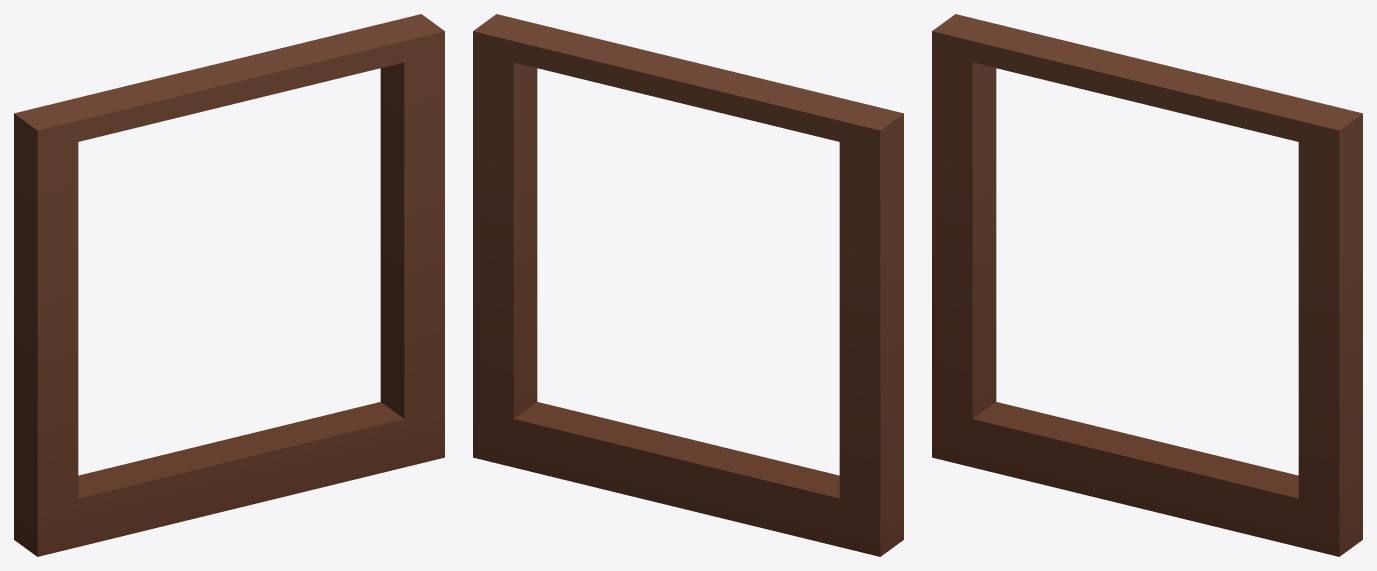
Rendered from House_Door_2m_Sliding_Frame.fbx.
The picture shows the model from 3 angles, left to right: view 1: azimuth 30°, elevation 25°; view 2: azimuth 150°, elevation 25°; view 3: azimuth 330°, elevation 25°; orthographic projection.
Parts seen in each view (by area): view 1: House_Door_2m_Sliding_Frame; view 2: House_Door_2m_Sliding_Frame; view 3: House_Door_2m_Sliding_Frame.
Boxes of the visible parts, x1,y1,x2,y2 form: House_Door_2m_Sliding_Frame: (14, 14, 444, 556); House_Door_2m_Sliding_Frame: (473, 14, 903, 556); House_Door_2m_Sliding_Frame: (932, 14, 1362, 556).
Bounding box in the file's own units: 2 × 2 × 0.2.
Materials: 1 (1 with a texture image).
